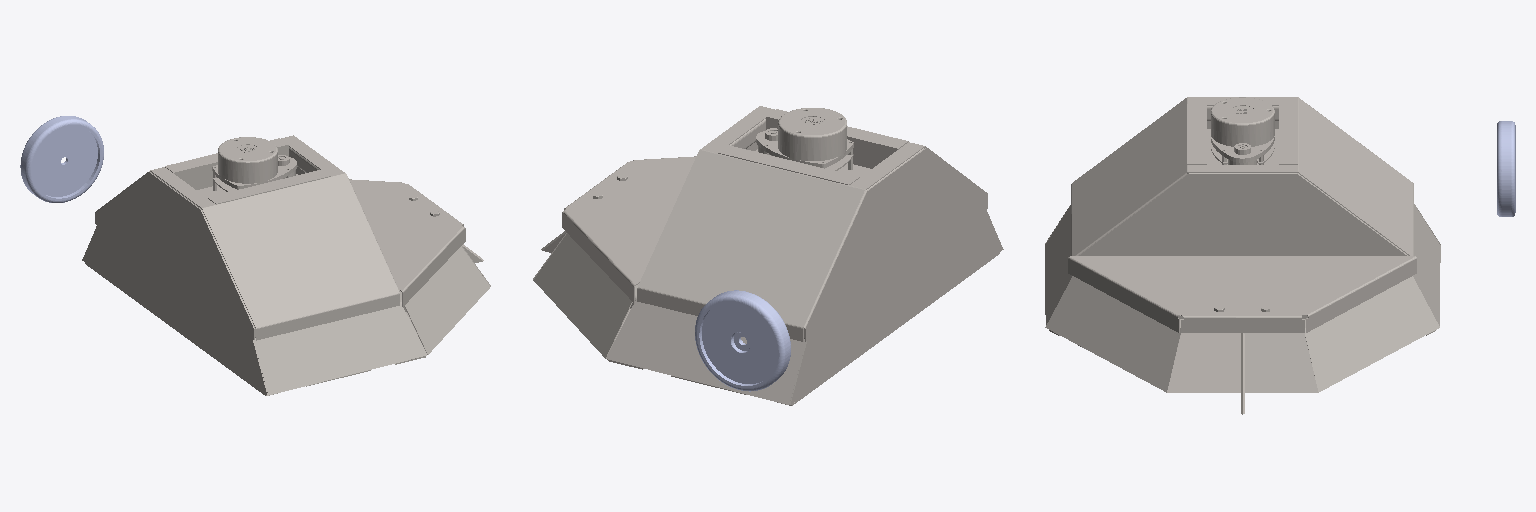
URDF robot description (r4_2020):
<?xml version="1.0" encoding="utf-8"?>
<!-- This URDF was automatically created by SolidWorks to URDF Exporter! Originally created by [author] ([email redacted]) 
     Commit Version: 1.6.0-1-g15f4949  Build Version: 1.6.7594.29634
     For more information, please see http://wiki.ros.org/sw_urdf_exporter -->
<robot
  name="r4_2020">
  <link
    name="base_link">
    <inertial>
      <origin
        xyz="-0.019749 -2.1322E-05 0.070983"
        rpy="0 0 0" />
      <mass
        value="7.359" />
      <inertia
        ixx="0.048724"
        ixy="5.5947E-06"
        ixz="0.00012516"
        iyy="0.037165"
        iyz="-2.8058E-06"
        izz="0.084343" />
    </inertial>
    <visual>
      <origin
        xyz="0 0 0"
        rpy="0 0 0" />
      <geometry>
        <mesh
          filename="package://r4_2020/meshes/base_link.STL" />
      </geometry>
      <material
        name="">
        <color
          rgba="0.77647 0.75686 0.73725 1" />
      </material>
    </visual>
    <collision>
      <origin
        xyz="0 0 0"
        rpy="0 0 0" />
      <geometry>
        <mesh
          filename="package://r4_2020/meshes/base_link.STL" />
      </geometry>
    </collision>
  </link>
  <link
    name="wheel_left_link">
    <inertial>
      <origin
        xyz="0 -3.7279E-05 0"
        rpy="0 0 0" />
      <mass
        value="0.10382" />
      <inertia
        ixx="8.4255E-05"
        ixy="3.3408E-20"
        ixz="-1.2267E-37"
        iyy="0.00016498"
        iyz="2.7474E-37"
        izz="8.4255E-05" />
    </inertial>
    <visual>
      <origin
        xyz="0 0 0"
        rpy="0 0 0" />
      <geometry>
        <mesh
          filename="package://r4_2020/meshes/wheel_left_link.STL" />
      </geometry>
      <material
        name="">
        <color
          rgba="0.79216 0.81961 0.93333 1" />
      </material>
    </visual>
    <collision>
      <origin
        xyz="0 0 0"
        rpy="0 0 0" />
      <geometry>
        <mesh
          filename="package://r4_2020/meshes/wheel_left_link.STL" />
      </geometry>
    </collision>
  </link>
  <joint
    name="wheel_left_joint"
    type="continuous">
    <origin
      xyz="-0.075 0.143 0.057215"
      rpy="0 0 0" />
    <parent
      link="base_link" />
    <child
      link="wheel_left_link" />
    <axis
      xyz="0 -1 0" />
  </joint>
  <link
    name="wheel_right_link">
    <inertial>
      <origin
        xyz="0 3.7279E-05 0"
        rpy="0 0 0" />
      <mass
        value="0.10382" />
      <inertia
        ixx="8.4255E-05"
        ixy="-1.1005E-23"
        ixz="1.2267E-37"
        iyy="0.00016498"
        iyz="-2.7474E-37"
        izz="8.4255E-05" />
    </inertial>
    <visual>
      <origin
        xyz="0 0 0"
        rpy="0 0 0" />
      <geometry>
        <mesh
          filename="package://r4_2020/meshes/wheel_right_link.STL" />
      </geometry>
      <material
        name="">
        <color
          rgba="0.79216 0.81961 0.93333 1" />
      </material>
    </visual>
    <collision>
      <origin
        xyz="0 0 0"
        rpy="0 0 0" />
      <geometry>
        <mesh
          filename="package://r4_2020/meshes/wheel_right_link.STL" />
      </geometry>
    </collision>
  </link>
  <joint
    name="wheel_right_joint"
    type="continuous">
    <origin
      xyz="-0.075 -0.143 0.057215"
      rpy="0 0 0" />
    <parent
      link="base_link" />
    <child
      link="wheel_right_link" />
    <axis
      xyz="0 -1 0" />
  </joint>
</robot>

--- Facts derived from the render (not from the file) ---
The picture shows the robot from 3 angles, left to right: view 1: azimuth 30°, elevation 25°; view 2: azimuth 150°, elevation 25°; view 3: azimuth 270°, elevation 25°; orthographic projection.
Model r4_2020 with 3 links and 2 joints (2 continuous), rooted at base_link, posed all joints at 0.
Links seen in each view (by area): view 1: base_link, wheel_left_link; view 2: base_link, wheel_left_link; view 3: base_link, wheel_left_link.
Boxes of the visible links, x1,y1,x2,y2 form: base_link: (82, 135, 490, 395); wheel_left_link: (20, 116, 103, 202); base_link: (533, 106, 1003, 405); wheel_left_link: (695, 290, 790, 391); base_link: (1045, 97, 1440, 414); wheel_left_link: (1497, 121, 1515, 216).
Bounding box of the posed robot: 0.4536 × 0.5112 × 0.2236 m (x, y, z).
Meshes: 3 distinct files referenced, 3 mesh visuals loaded (3 binary STL).
